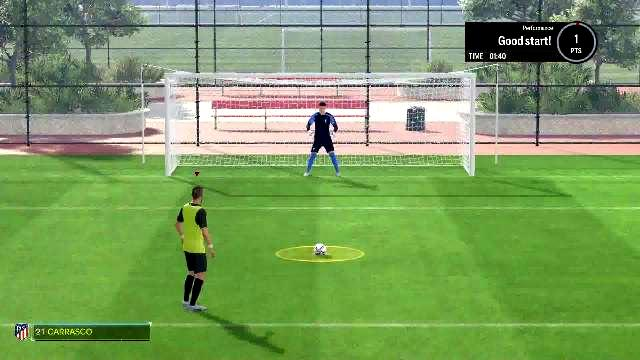bottom-left: (170, 128, 270, 176)
bottom-right: (370, 128, 470, 176)
center-down: (270, 128, 370, 176)
center-up: (270, 78, 370, 126)
circle: (274, 241, 366, 262)
football: (311, 241, 331, 256)
goalkeeper: (302, 99, 342, 178)
player: (171, 185, 213, 314)
top-left: (170, 78, 270, 126)
top-right: (370, 78, 470, 126)
